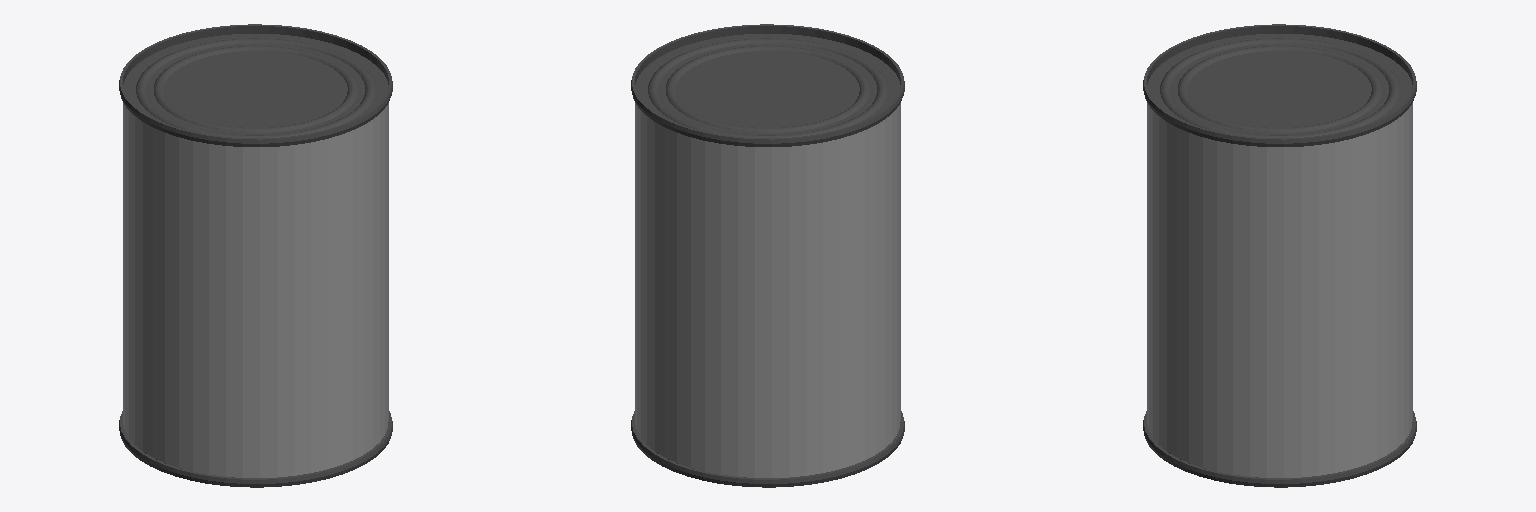
Rendered from Beets.obj.
3 views of the same model, side by side, from view 1: azimuth 30°, elevation 25°; view 2: azimuth 150°, elevation 25°; view 3: azimuth 270°, elevation 25° (orthographic).
Parts seen in each view (by area): view 1: beets; view 2: beets; view 3: beets.
Boxes of the visible parts, x1,y1,x2,y2 form: beets: [119, 24, 392, 487]; beets: [631, 24, 904, 487]; beets: [1143, 24, 1416, 487].
Size of the model in its own units: 0.3089 by 0.4323 by 0.3089.